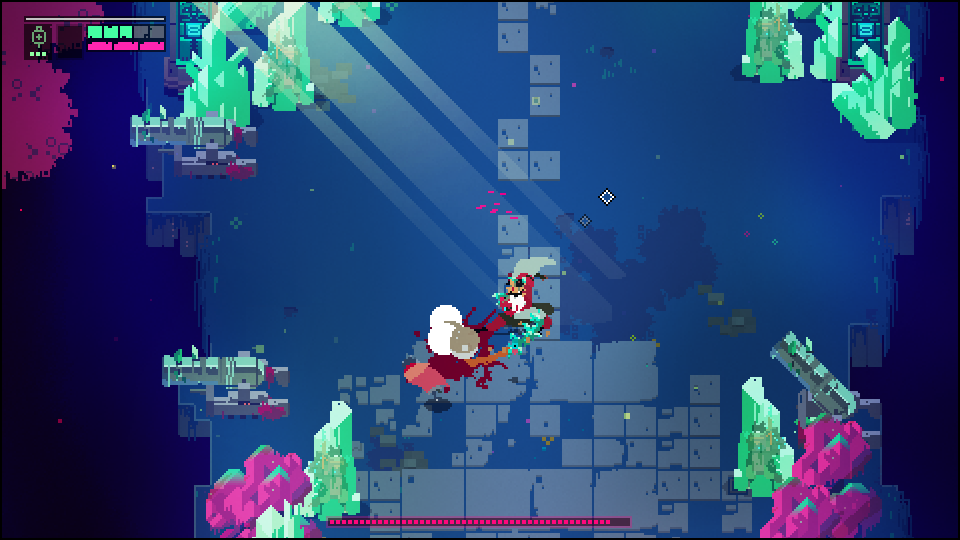hanged_man: (481, 255, 555, 359)
player: (402, 354, 450, 404)
